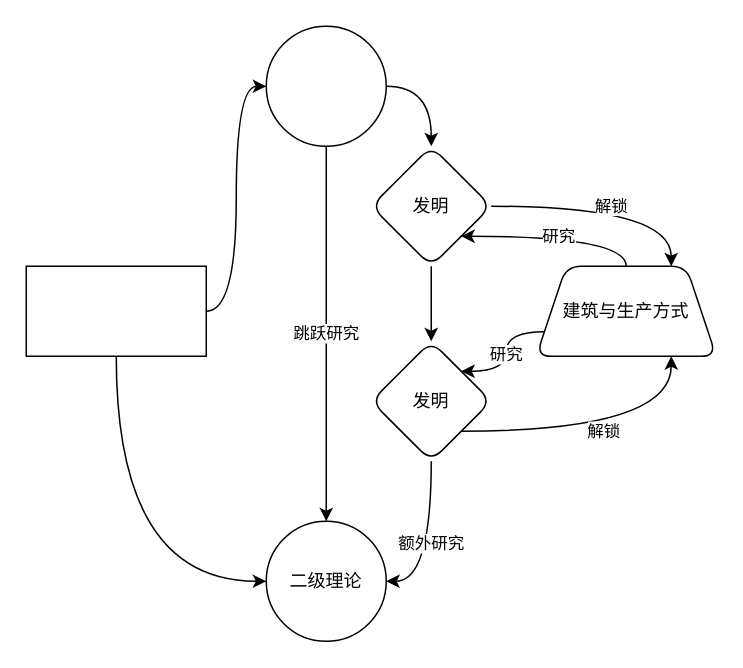
This 743x668 diagram has some shape labels left out. Here are the shapes that lost their labels. From the top down, the centre of each, then its label:
(x=325, y=85): 一级理论
(x=115, y=310): 大学
